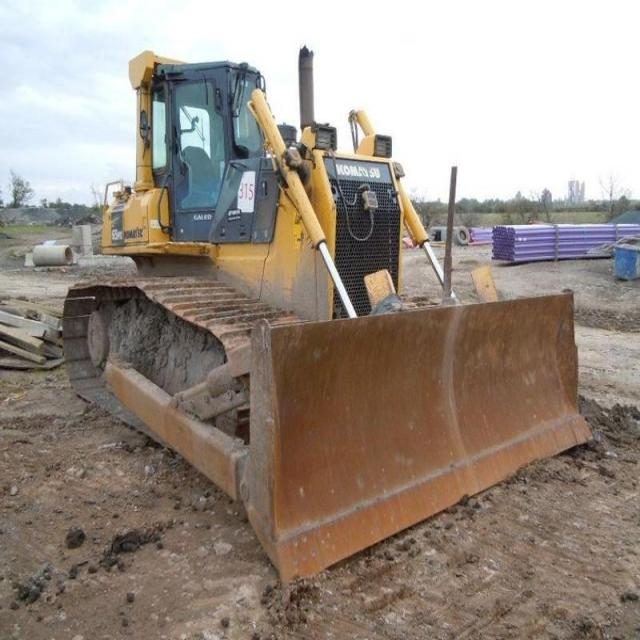Bulldozer: (55, 41, 626, 604)
